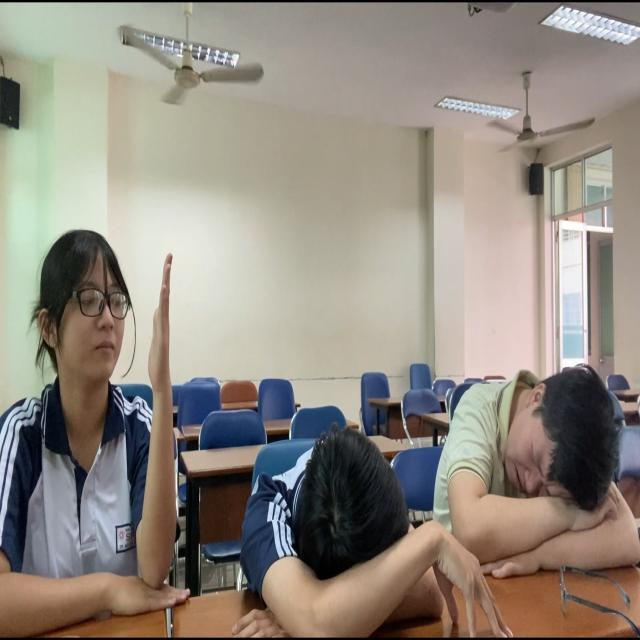raise_hand: (1, 230, 197, 625)
sleep: (239, 426, 466, 640), (440, 364, 640, 578)
